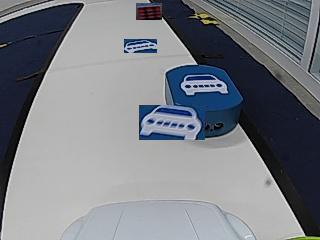safety: (180, 73, 230, 95)
